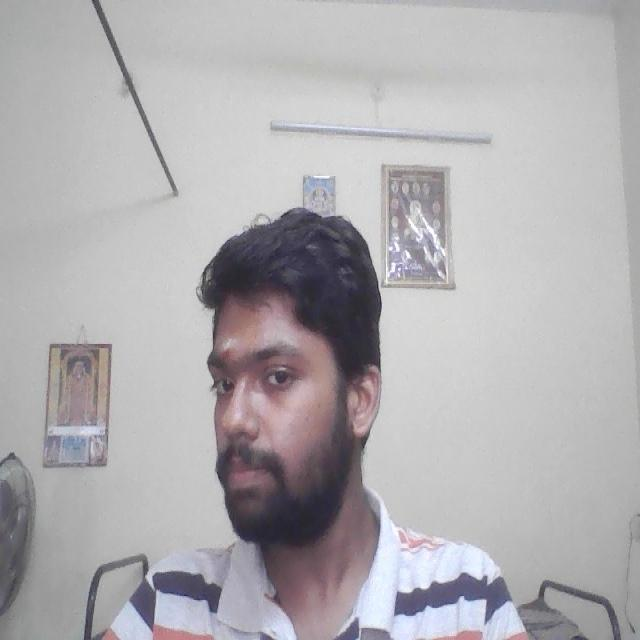Focused: (200, 302, 362, 508)
